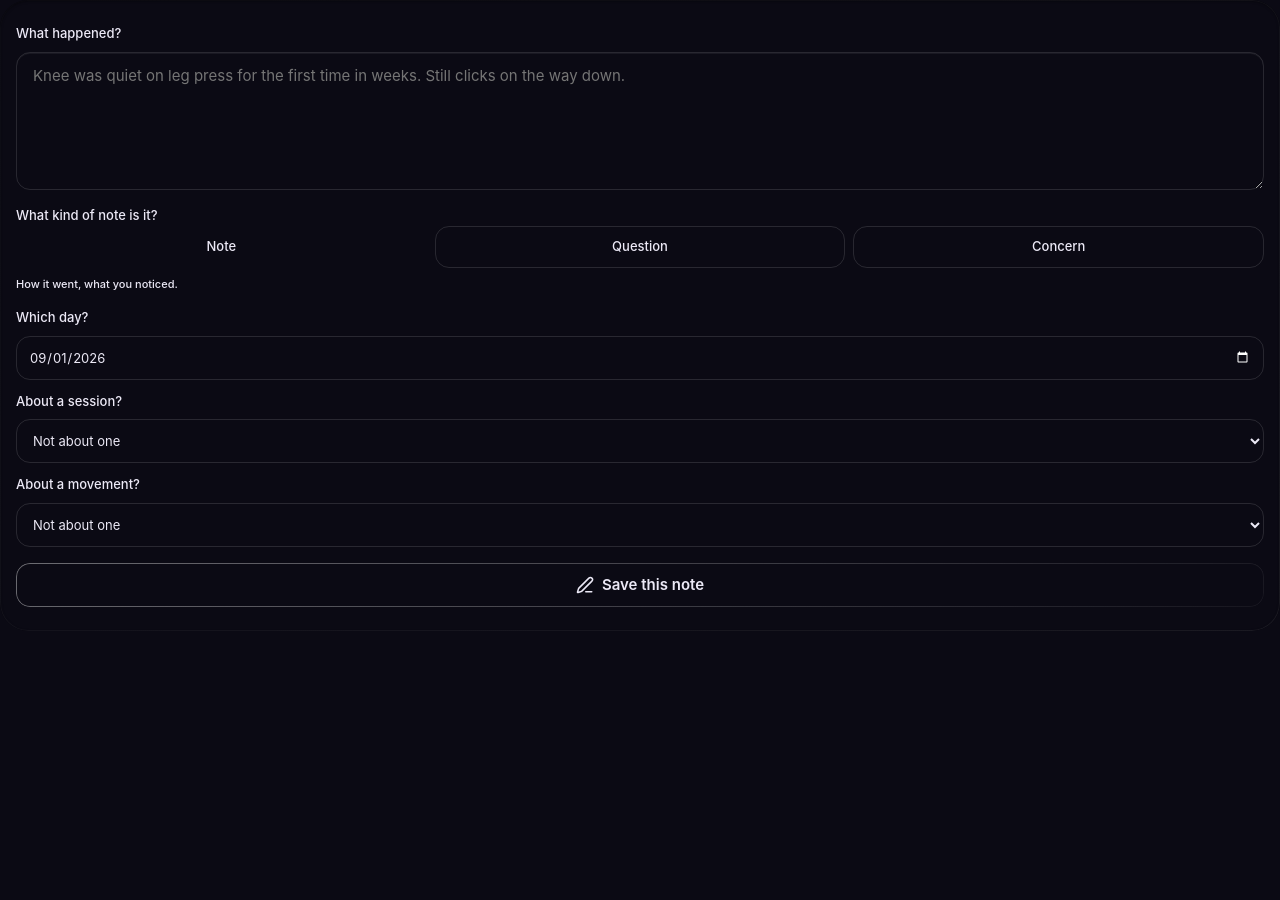
Test: when the note is not usable › refuses an empty note and says why
Click the button "Save this note" at (640, 584), box [16,562,1264,606]
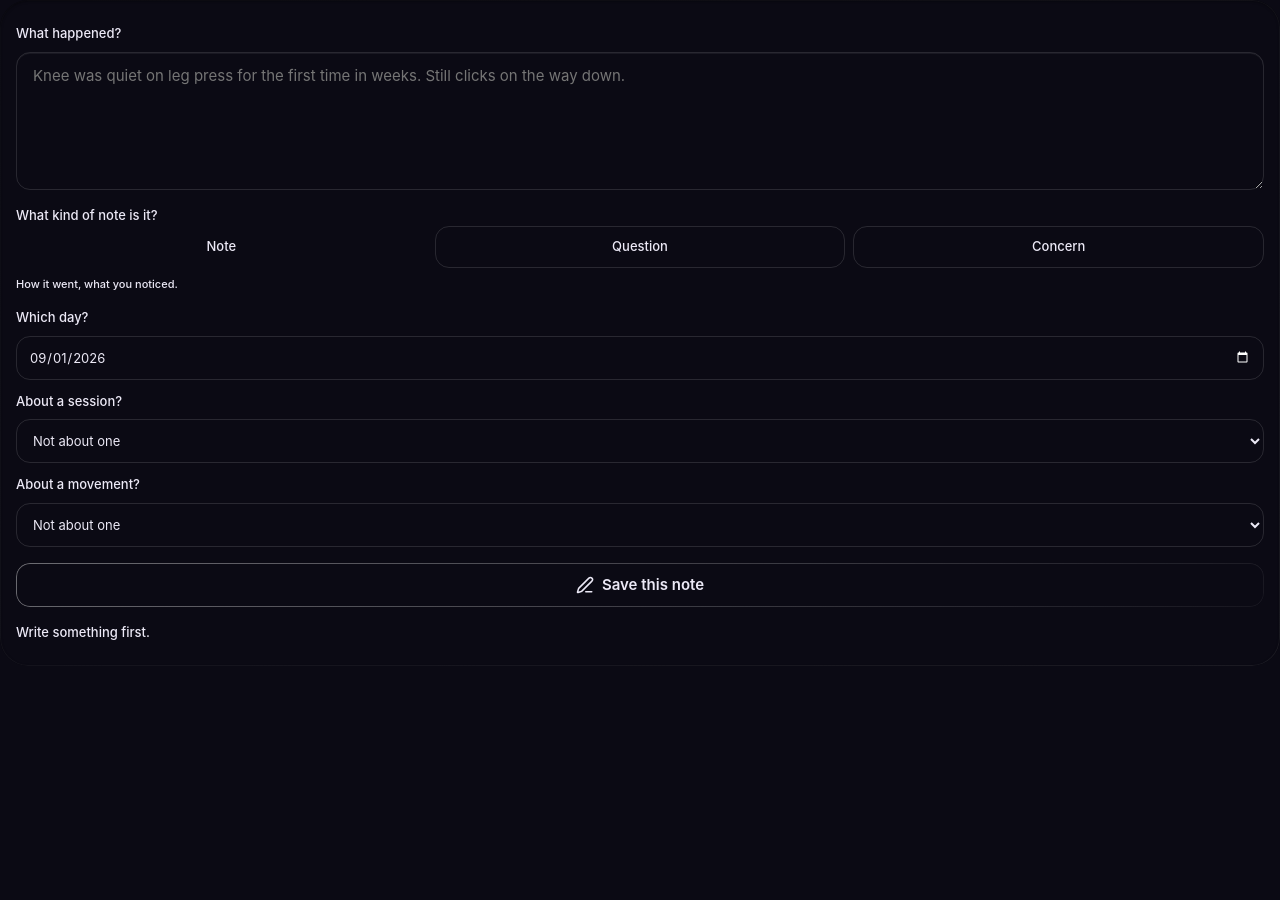
Now the message reads "Write something first.", box [16,624,150,640]
